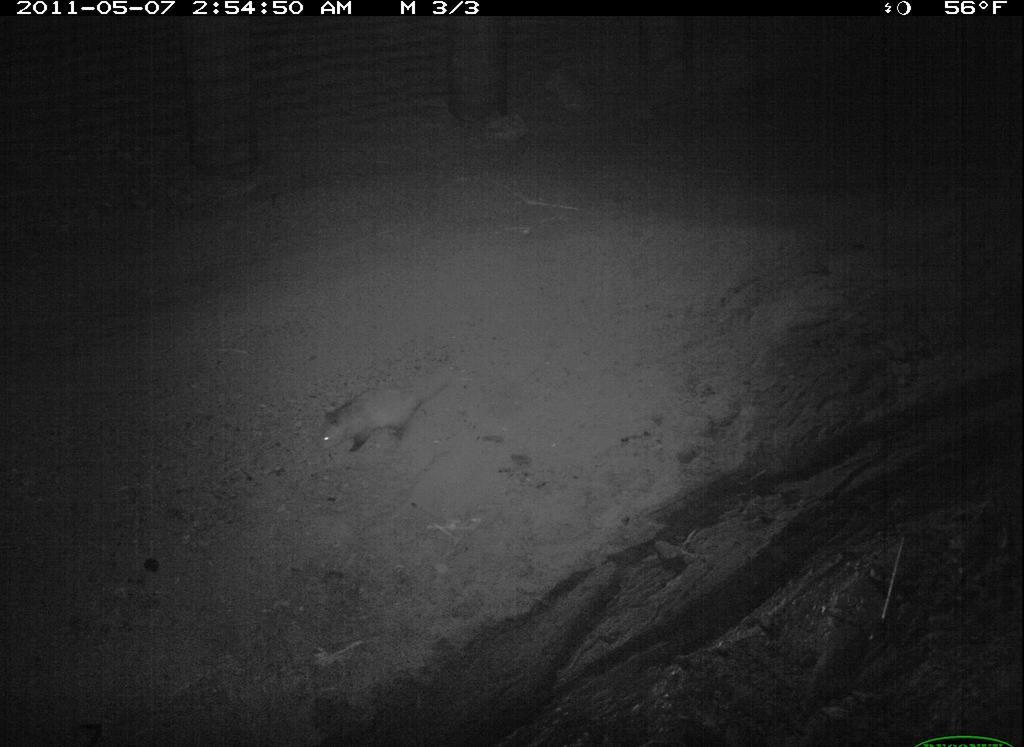opossum: (306, 373, 465, 469)
